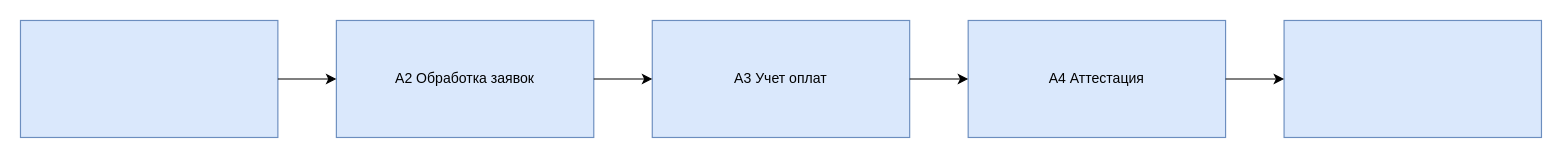
The diagram is 1562 pixels wide and 158 high, and some of its shapes have lost their labels. The shapes that lost their labels are listed below. From the top down, each one's centre as x and y in pixels, then its label:
At point 148,78: "A1 Управление программами".
At point 1412,78: "A5 Выдача удостоверений".
